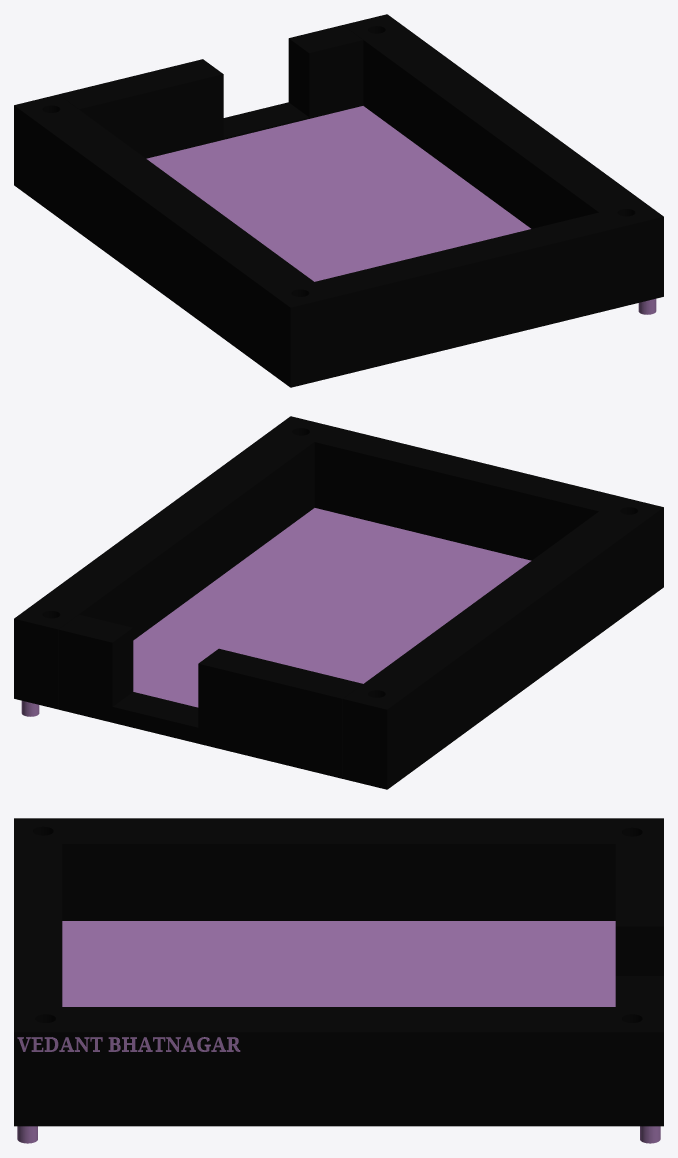
File: BACK CASE FINAL.glb
The picture shows the model from 3 angles, top to bottom: view 1: azimuth 30°, elevation 25°; view 2: azimuth 150°, elevation 25°; view 3: azimuth 270°, elevation 25°; orthographic projection. The views are drawn at different scales.
Parts seen in each view (by area): view 1: Mesh_Mesh_head_geo.001_lambert2SG.001; view 2: Mesh_Mesh_head_geo.001_lambert2SG.001; view 3: Mesh_Mesh_head_geo.001_lambert2SG.001.
Boxes of the visible parts, x1,y1,x2,y2 form: Mesh_Mesh_head_geo.001_lambert2SG.001: [14, 14, 663, 387]; Mesh_Mesh_head_geo.001_lambert2SG.001: [14, 416, 663, 789]; Mesh_Mesh_head_geo.001_lambert2SG.001: [14, 818, 663, 1143].
Size of the model in its own units: 0.0978 by 0.024 by 0.1253.
